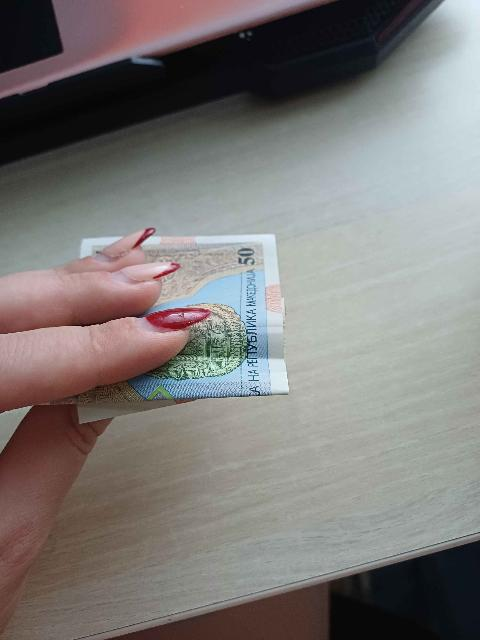50_note: (82, 231, 283, 412)
